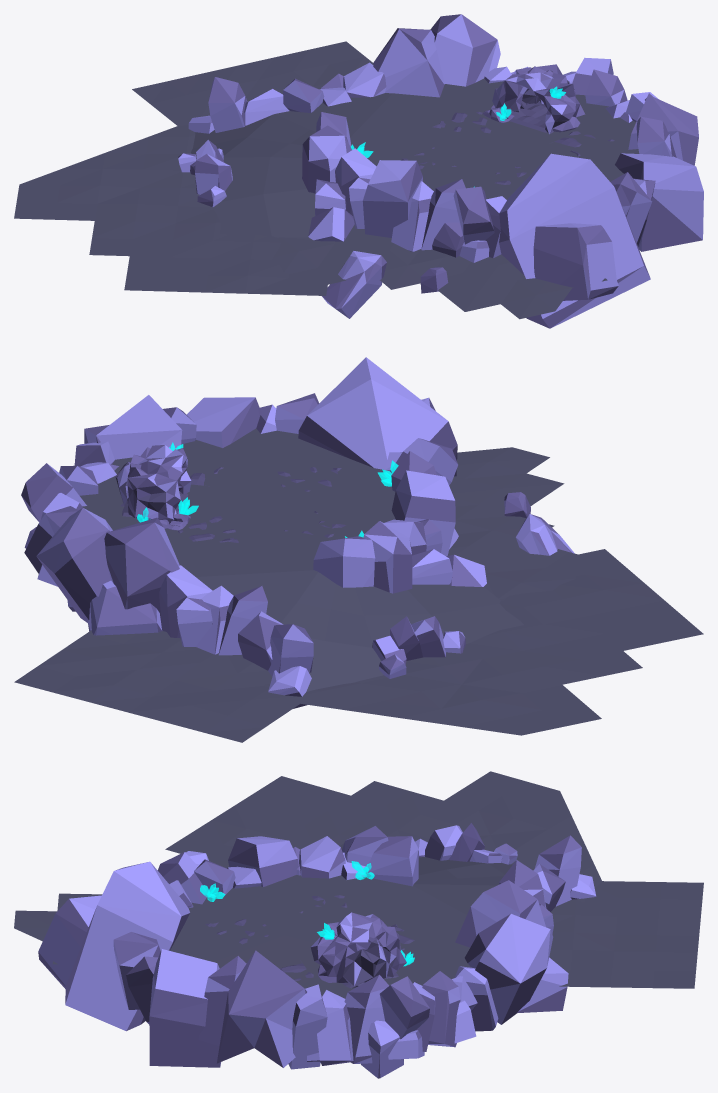
The model's file is Egg_Wyvern.fbx.
3 renders of one model, top to bottom at view 1: azimuth 30°, elevation 25°; view 2: azimuth 150°, elevation 25°; view 3: azimuth 270°, elevation 25°, orthographic. The views are drawn at different scales.
Visible parts, largest first — view 1: Plane.007, Plane.008, Cube.116, Plane.009, Plane.010, Cube.127, Cube.110, Cube.120, Cube.119, Cube.158, Cube.125, Cube.162 (+24 smaller); view 2: Plane.007, Plane.008, Plane.010, Plane.009, Cube.116, Cube.119, Cube.120, Cube.158, Cube.117, Cube.125, Cube.127, Cube.115 (+24 smaller); view 3: Plane.007, Plane.008, Plane.010, Cube.116, Cube.127, Cube.117, Cube.119, Cube.158, Cube.110, Cube.120, Cube.125, Cube.133 (+25 smaller).
Part boxes in pixels (box(x1,y1,x2,y2)): Plane.007: box(191, 78, 639, 237); Plane.008: box(14, 125, 328, 295); Cube.116: box(499, 153, 650, 328); Plane.009: box(272, 224, 607, 319); Plane.010: box(132, 41, 373, 125); Cube.127: box(615, 153, 703, 251); Cube.110: box(533, 223, 618, 300); Cube.120: box(373, 28, 444, 97); Cube.119: box(430, 14, 500, 86); Cube.158: box(492, 66, 585, 134); Cube.125: box(362, 160, 422, 237); Cube.162: box(322, 251, 386, 318); Plane.007: box(80, 428, 523, 691); Plane.008: box(263, 549, 703, 735); Plane.010: box(14, 630, 299, 742); Plane.009: box(447, 447, 606, 600); Cube.116: box(298, 357, 457, 476); Cube.119: box(36, 508, 112, 622); Cube.120: box(104, 517, 179, 627); Cube.158: box(115, 445, 191, 522); Cube.117: box(84, 395, 182, 459); Cube.125: box(391, 470, 455, 556); Cube.127: box(186, 397, 261, 447); Cube.115: box(313, 536, 375, 587); Plane.007: box(170, 843, 512, 998); Plane.008: box(165, 771, 601, 902); Plane.010: box(549, 881, 703, 988); Cube.116: box(65, 861, 189, 1031); Cube.127: box(149, 949, 220, 1067); Cube.117: box(217, 950, 306, 1067); Cube.119: box(464, 914, 553, 1024); Cube.158: box(310, 912, 406, 986); Cube.110: box(38, 895, 101, 988); Cube.120: box(455, 880, 545, 947); Cube.125: box(228, 836, 298, 887); Cube.133: box(344, 974, 388, 1063).
Bounding box in the file's own units: 6512 × 1753 × 6545.
